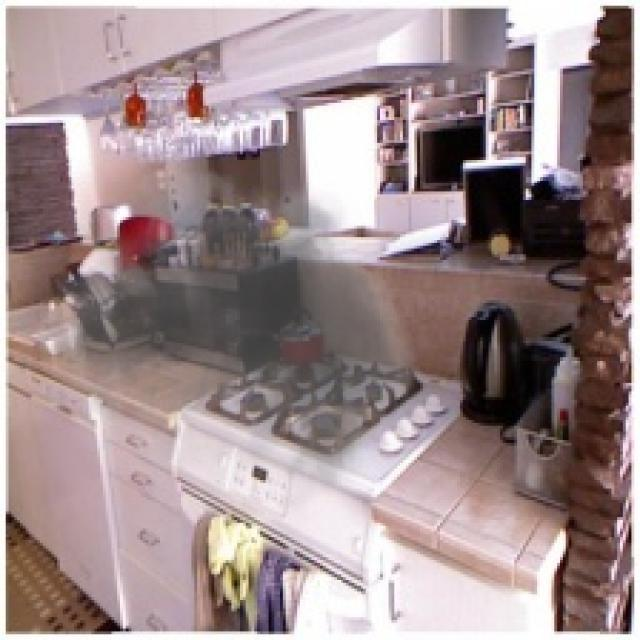Smoke: (37, 148, 437, 560)
